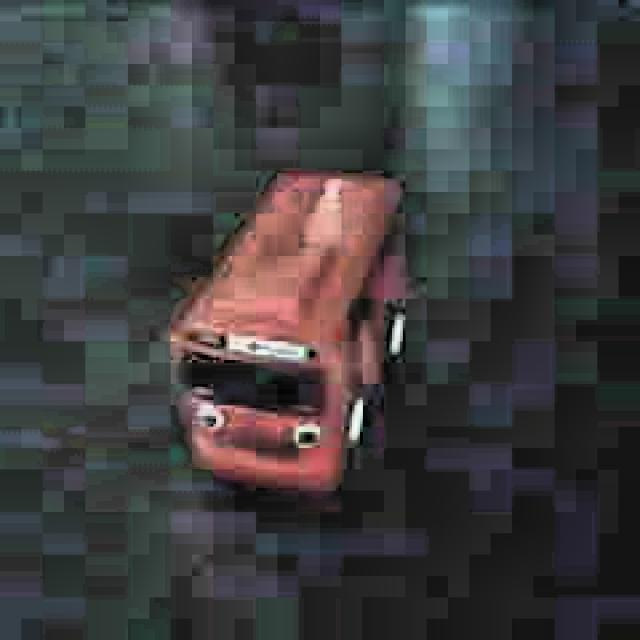bus: (154, 157, 423, 510)
